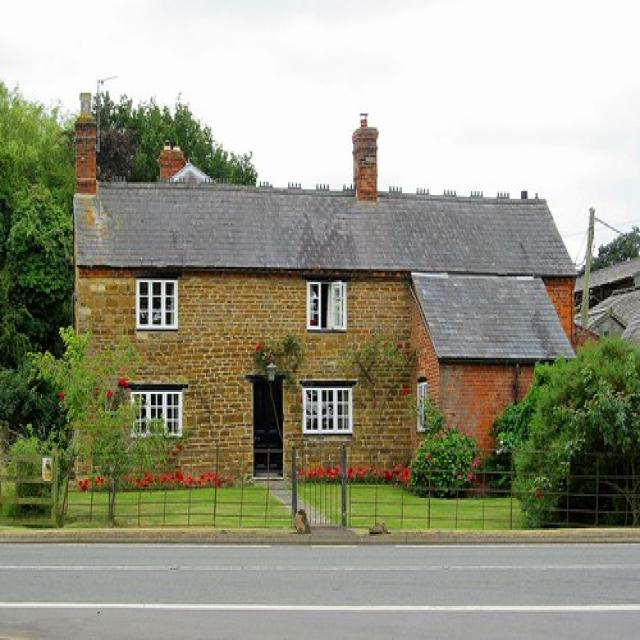building: (71, 109, 578, 501)
